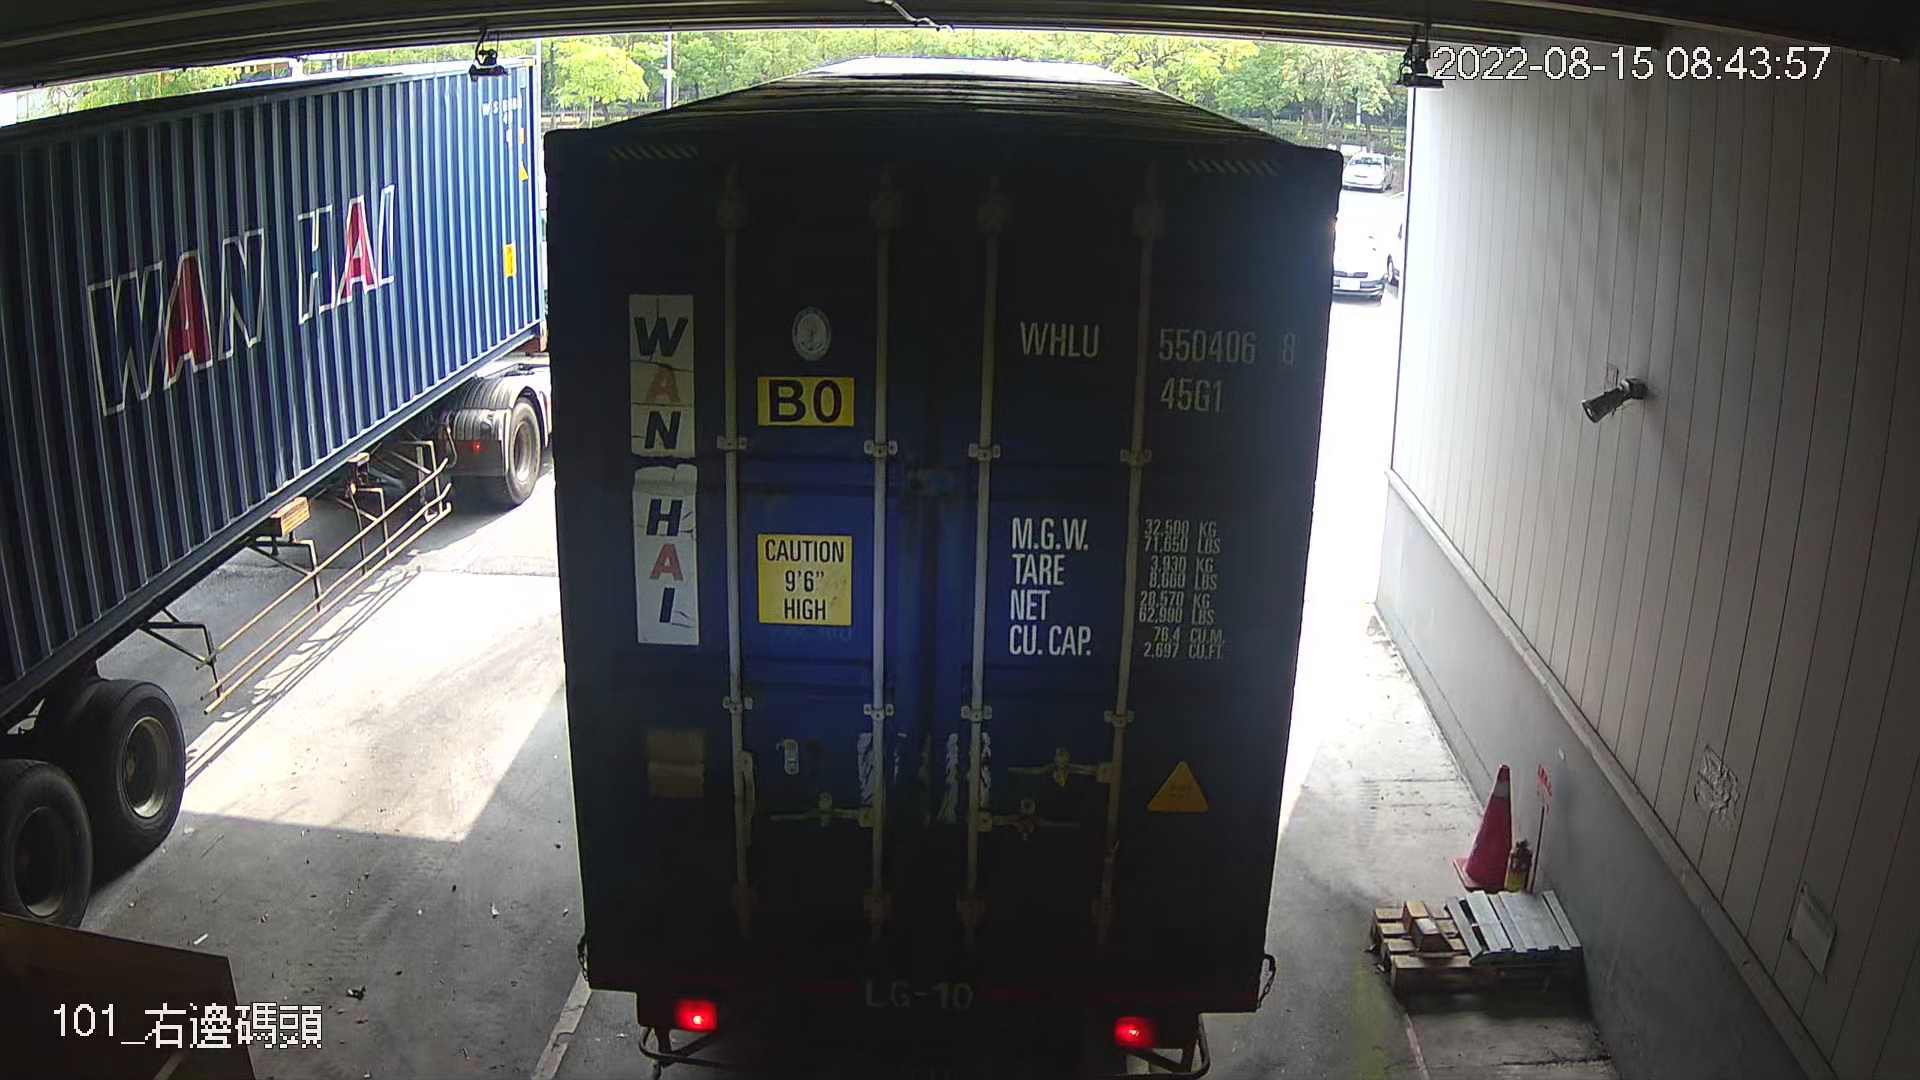container: (1011, 302, 1309, 418)
